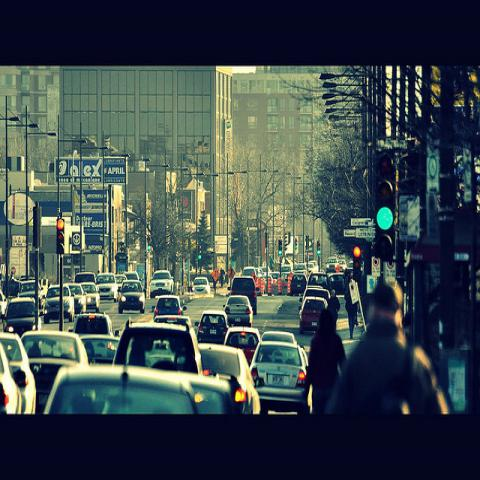car: (4, 81, 423, 479), (40, 363, 236, 419), (111, 316, 206, 378), (248, 339, 307, 419), (1, 336, 28, 412), (222, 328, 262, 367), (227, 275, 260, 315), (195, 309, 229, 345), (298, 296, 328, 334), (117, 279, 145, 314), (224, 296, 253, 328), (154, 295, 188, 320), (149, 269, 175, 298), (96, 272, 118, 303)
